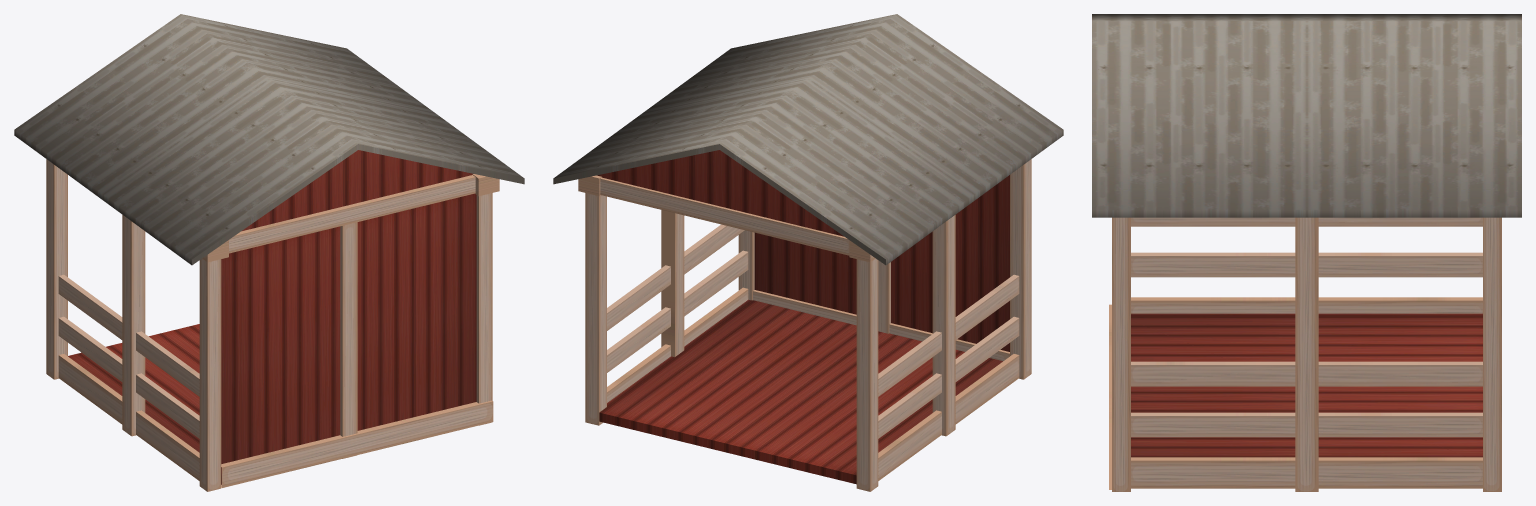
File: AnimalStall_hand.fbx
3 renders of one model, left to right at view 1: azimuth 30°, elevation 25°; view 2: azimuth 150°, elevation 25°; view 3: azimuth 270°, elevation 25°, orthographic. The views are drawn at different scales.
Parts seen in each view (by area): view 1: Stall; view 2: Stall; view 3: Stall.
Part boxes in pixels (x1,y1,x2,y2): Stall: [14, 14, 524, 491]; Stall: [553, 14, 1063, 491]; Stall: [1092, 14, 1521, 491].
Size of the model in its own units: 0.8313 by 0.7624 by 0.7687.
